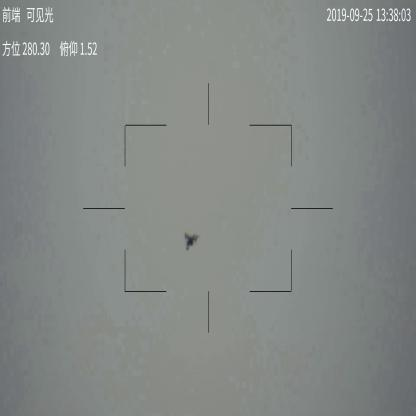uav: (183, 228, 199, 253)
